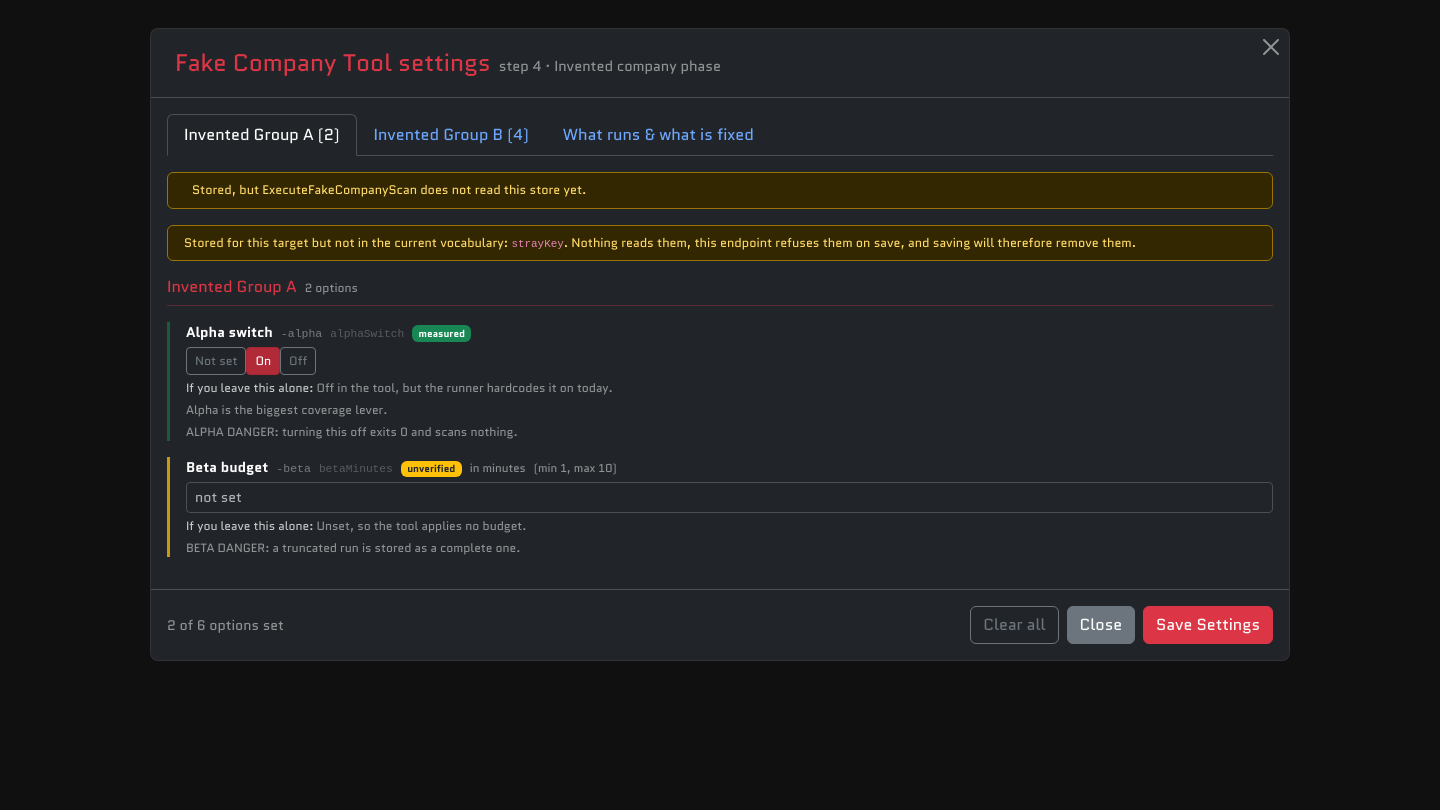
Test: a refusal that names a field is attached to that field
Expected: the text "Alpha switch" is shown, [186,322,273,343]
Step 1. Click the button "Save Settings" → point(1208, 625), box [1143,606,1273,644]
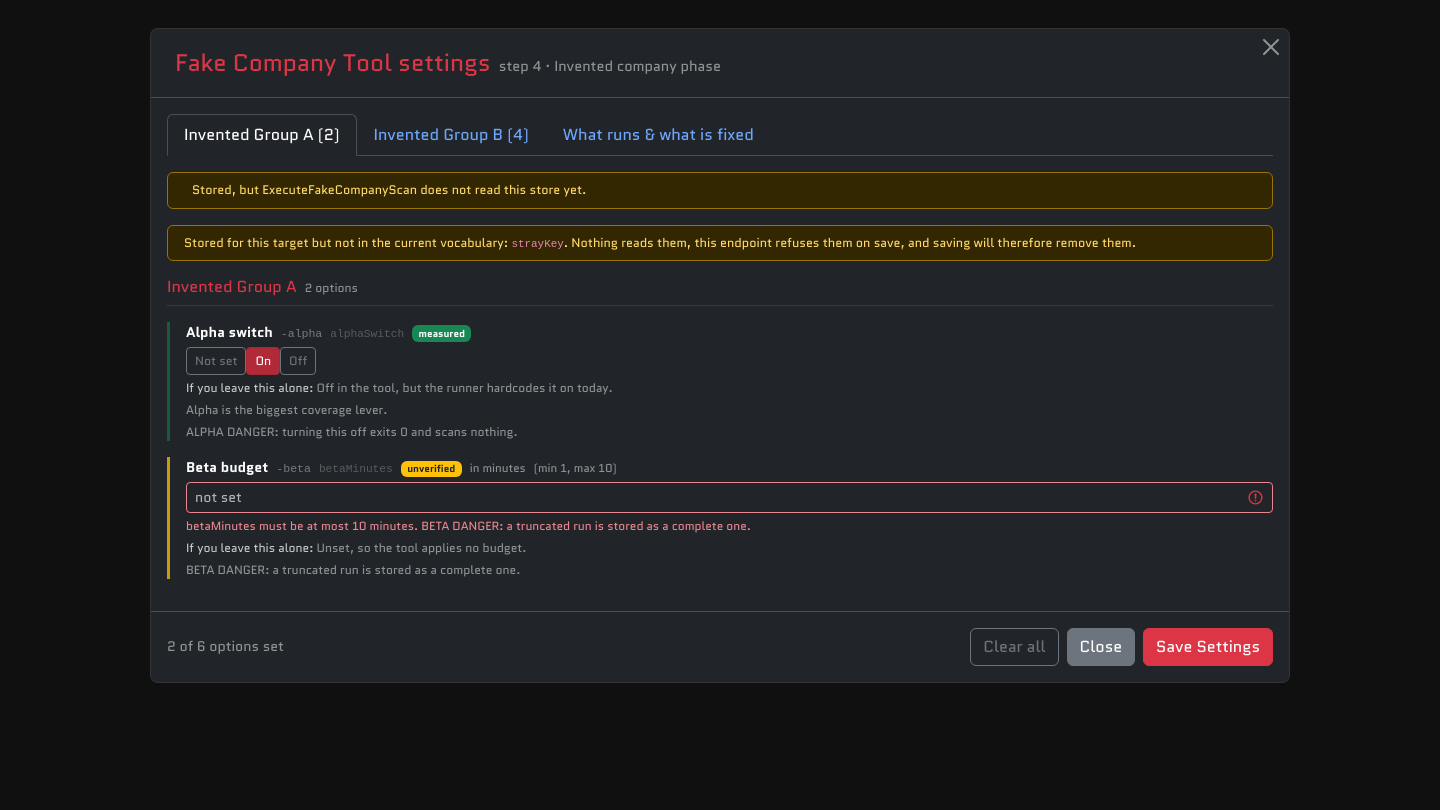
Now the text with test id "error-betaMinutes" shows "must be at most 10 minutes", box [186,517,751,534]
